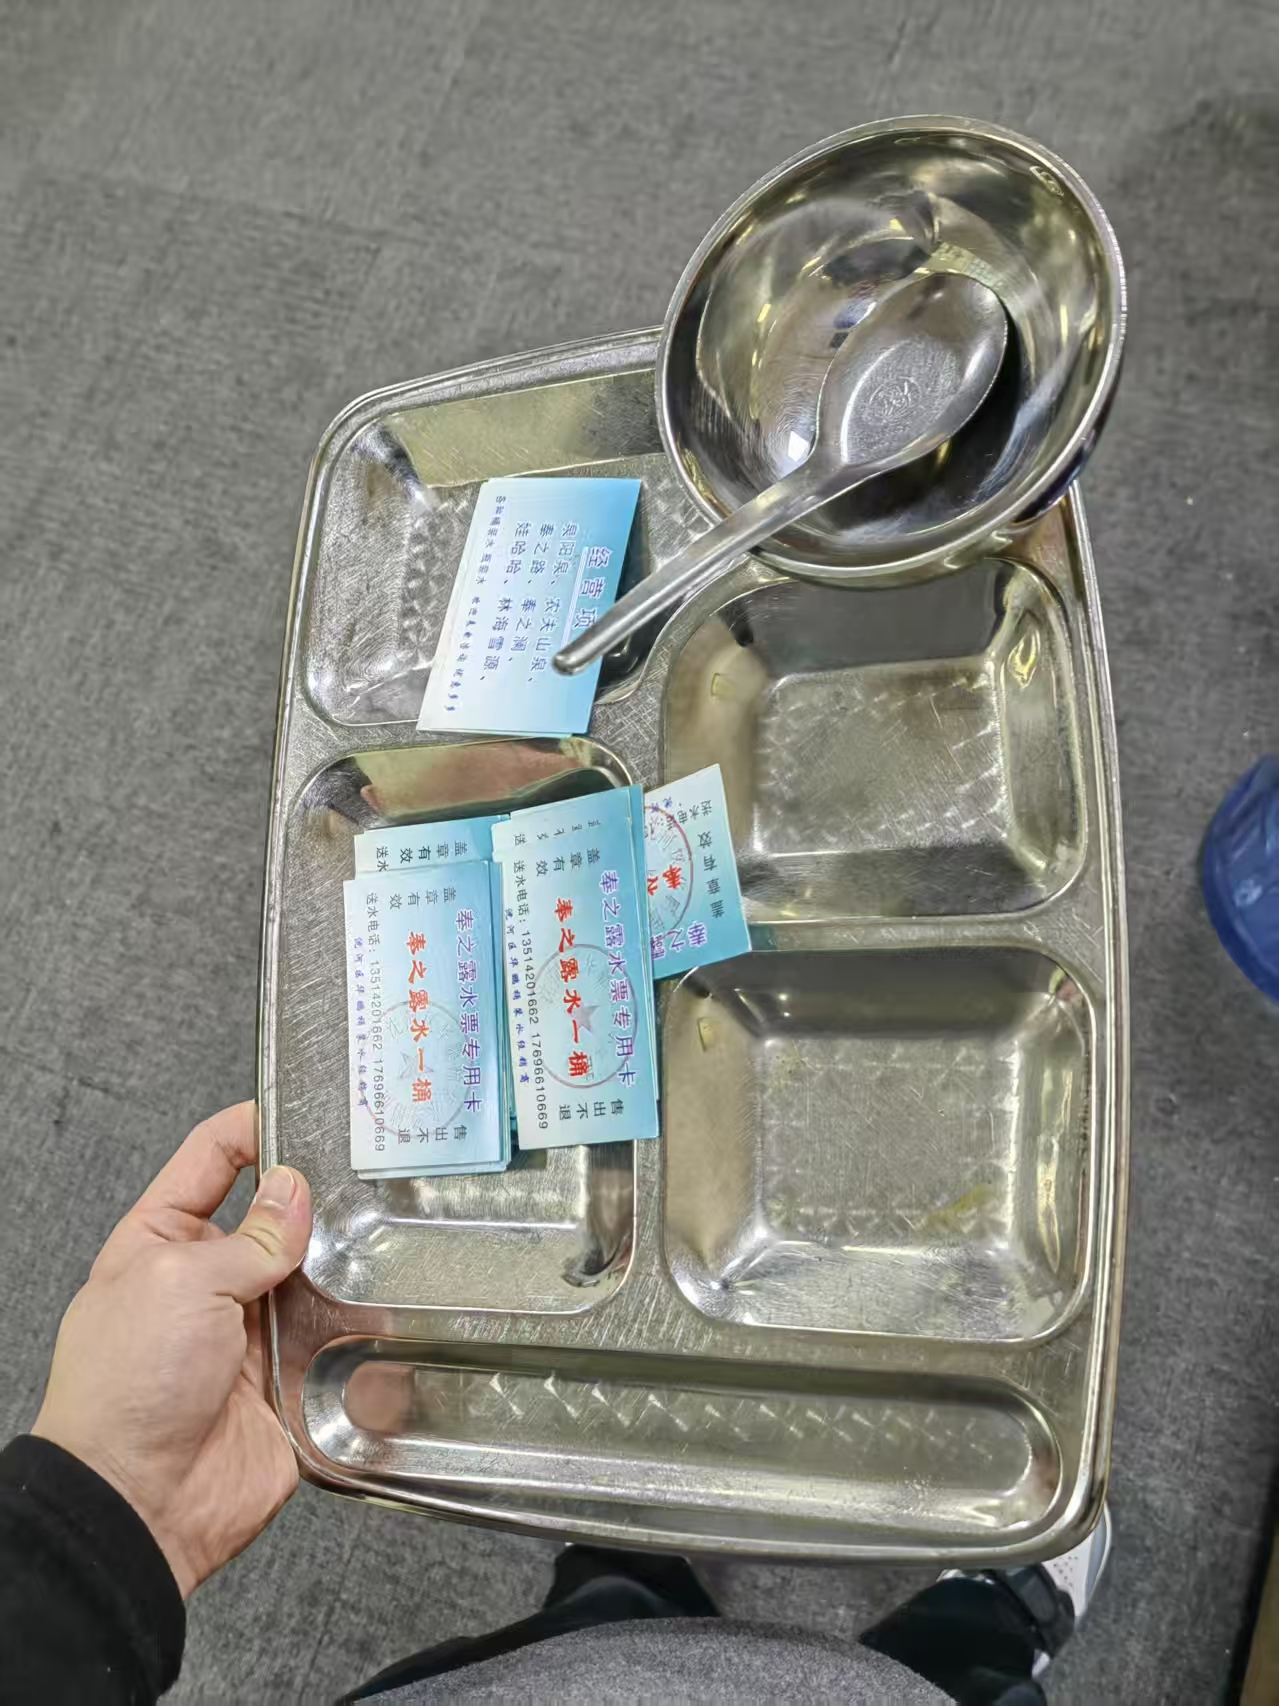mild: (341, 470, 754, 1177)
plate: (257, 272, 1128, 1572)
